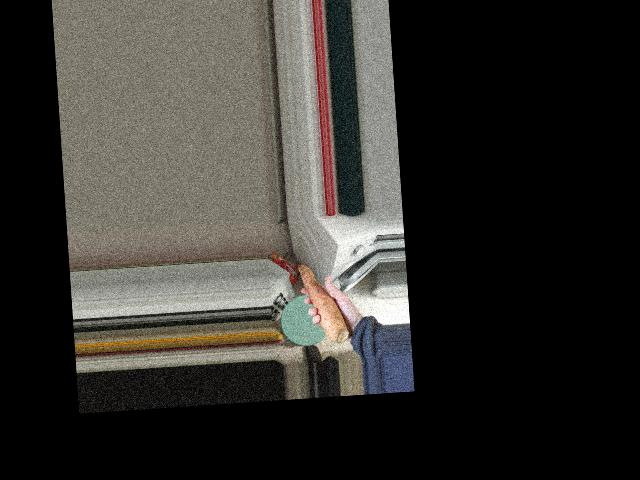sweet_potato: (293, 255, 352, 347)
